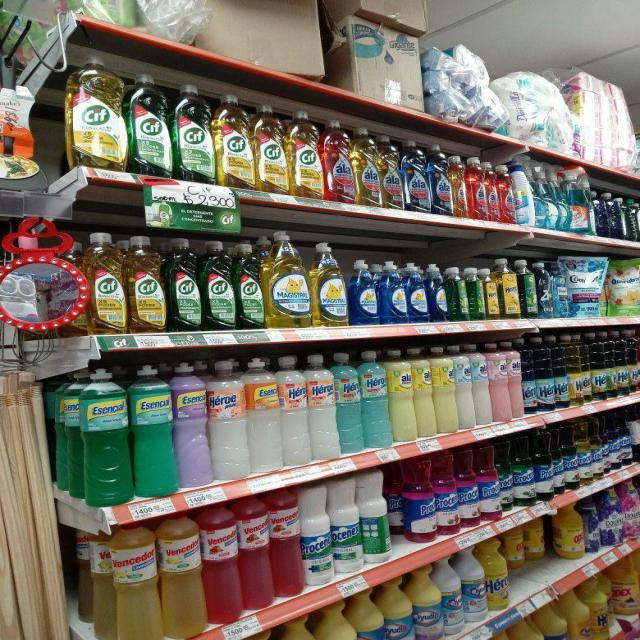ala_conc_amarillo: (353, 126, 380, 206), (380, 134, 402, 210), (451, 154, 468, 217)
ala_conc_azul: (402, 138, 429, 212), (429, 143, 451, 215)
ala_conc_rojo: (323, 118, 353, 203), (468, 157, 486, 220), (499, 162, 515, 223), (486, 160, 498, 222)
ala_crem_amarillo: (388, 349, 414, 443), (434, 346, 456, 434), (414, 348, 434, 438)
ala_crem_blanco: (456, 343, 474, 430), (474, 342, 490, 426)
ala_crem_rosado: (490, 342, 510, 422), (509, 341, 523, 418)
cif_conc_bot_amarilla: (69, 54, 126, 170), (127, 235, 165, 333), (90, 232, 125, 334), (216, 92, 253, 188), (255, 102, 287, 193), (289, 110, 322, 198)
cif_conc_botella_verde: (129, 72, 172, 176), (173, 82, 214, 183), (167, 237, 201, 332), (202, 239, 234, 331), (235, 241, 263, 329)
heroe: (208, 358, 247, 481), (279, 355, 307, 467), (307, 354, 335, 461), (336, 352, 361, 454), (362, 351, 388, 448)
magistral_con_amarillo: (264, 230, 310, 328), (312, 240, 348, 326)
magistral_con_azul: (349, 258, 379, 326), (381, 260, 407, 324), (407, 262, 428, 324), (428, 262, 447, 323)
